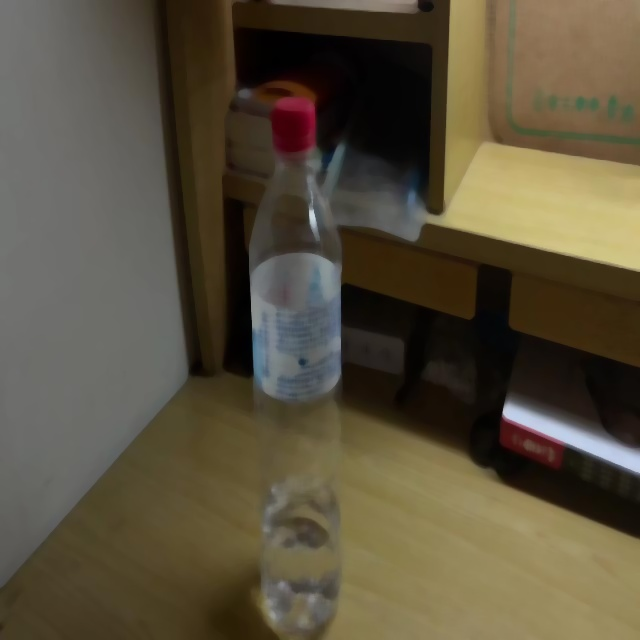Water: (251, 95, 340, 636)
